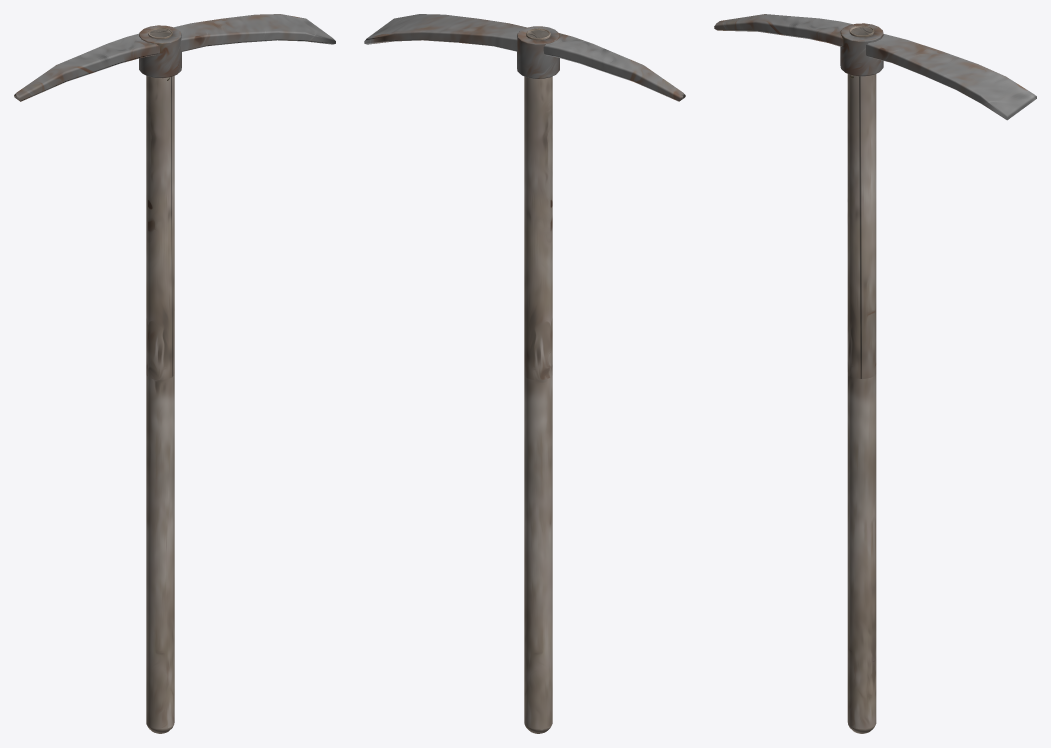
File: Pickaxe.fbx
3 views of the same model, side by side, from view 1: azimuth 30°, elevation 25°; view 2: azimuth 150°, elevation 25°; view 3: azimuth 330°, elevation 25° (orthographic).
Parts seen in each view (by area): view 1: Pickaxe; view 2: Pickaxe; view 3: Pickaxe.
Boxes of the visible parts, left/top/right/bottom form: Pickaxe: left=14, top=14, right=335, bottom=733; Pickaxe: left=364, top=14, right=685, bottom=733; Pickaxe: left=714, top=14, right=1036, bottom=733.
Bounding box in the file's own units: 65.18 × 143 × 10.81.
